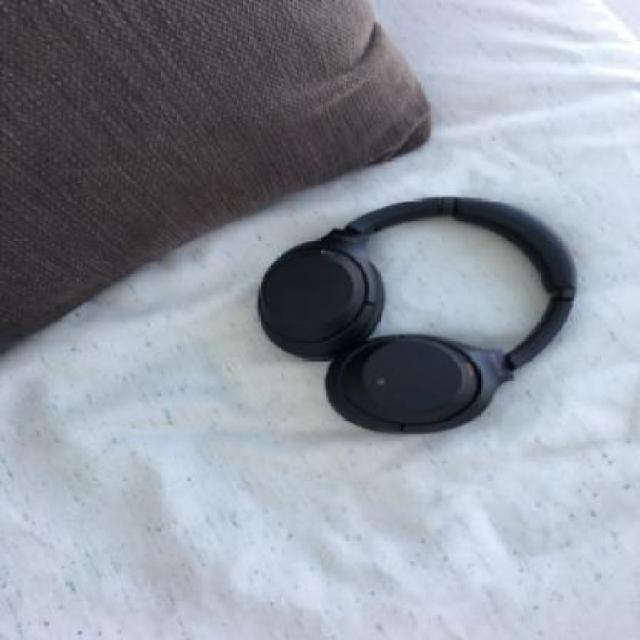earphone: (218, 84, 587, 454)
